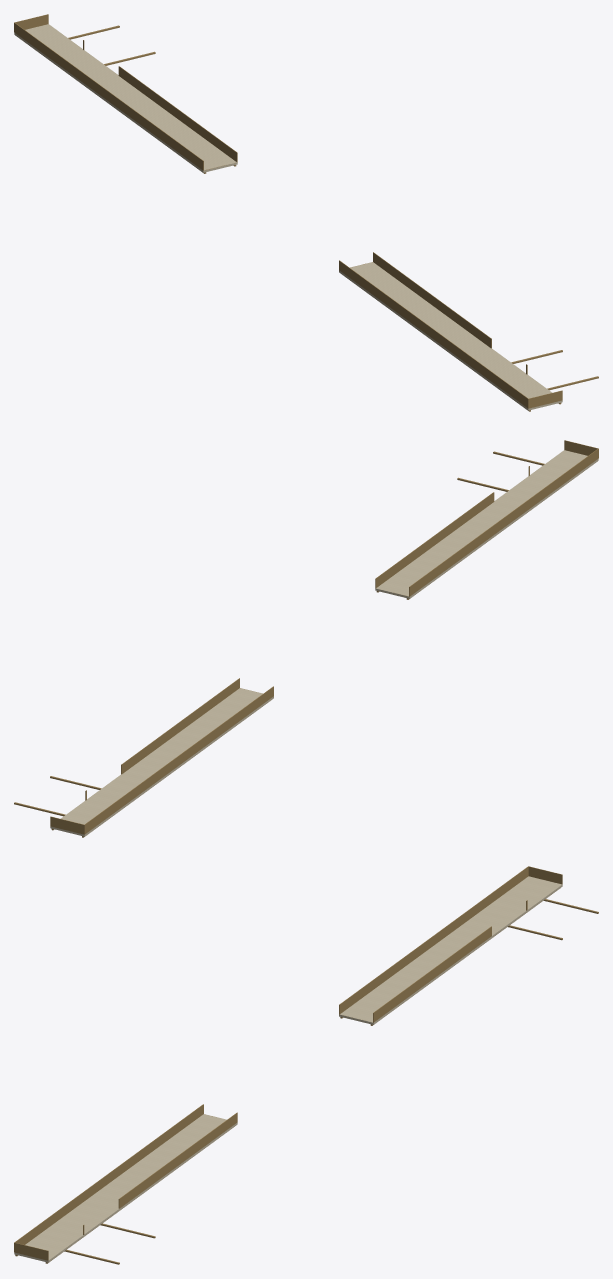
Rendered from StarAtlasSpecialtyFirstReceiving.glb.
The picture shows the model from 3 angles, top to bottom: view 1: azimuth 30°, elevation 25°; view 2: azimuth 150°, elevation 25°; view 3: azimuth 330°, elevation 25°; orthographic projection.
Visible parts, largest first — view 1: SA_D15_NorthNewStreetFloor, SA_D15_SouthNewStreetFloor, SA_D15_NorthWestGuard, SA_D15_SouthWestGuard, SA_D15_NorthEastGuard_0, SA_D15_SouthEastGuard_0; view 2: SA_D15_SouthNewStreetFloor, SA_D15_NorthNewStreetFloor, SA_D15_SouthWestGuard, SA_D15_NorthWestGuard, SA_D15_SouthEastGuard_0, SA_D15_NorthEastGuard_0; view 3: SA_D15_NorthNewStreetFloor, SA_D15_SouthNewStreetFloor, SA_D15_NorthWestGuard, SA_D15_SouthWestGuard, SA_D15_SouthEastGuard_0, SA_D15_NorthEastGuard_0.
Part boxes in pixels (box(x1,y1,x2,y2)): SA_D15_NorthNewStreetFloor: box(14, 24, 237, 172); SA_D15_SouthNewStreetFloor: box(339, 262, 562, 410); SA_D15_NorthWestGuard: box(14, 22, 203, 170); SA_D15_SouthWestGuard: box(339, 260, 528, 408); SA_D15_NorthEastGuard_0: box(118, 66, 237, 162); SA_D15_SouthEastGuard_0: box(373, 252, 491, 348); SA_D15_SouthNewStreetFloor: box(375, 450, 598, 598); SA_D15_NorthNewStreetFloor: box(50, 688, 273, 836); SA_D15_SouthWestGuard: box(409, 448, 598, 596); SA_D15_NorthWestGuard: box(84, 686, 273, 833); SA_D15_SouthEastGuard_0: box(375, 492, 494, 588); SA_D15_NorthEastGuard_0: box(121, 678, 239, 774); SA_D15_NorthNewStreetFloor: box(339, 876, 562, 1024); SA_D15_SouthNewStreetFloor: box(14, 1114, 237, 1262); SA_D15_NorthWestGuard: box(339, 866, 528, 1014); SA_D15_SouthWestGuard: box(14, 1104, 203, 1244); SA_D15_SouthEastGuard_0: box(118, 1112, 237, 1208); SA_D15_NorthEastGuard_0: box(373, 926, 491, 1022).
Bounding box in the file's own units: 10.45 × 1.5 × 106.
Materials: 2 (2 with a texture image).
